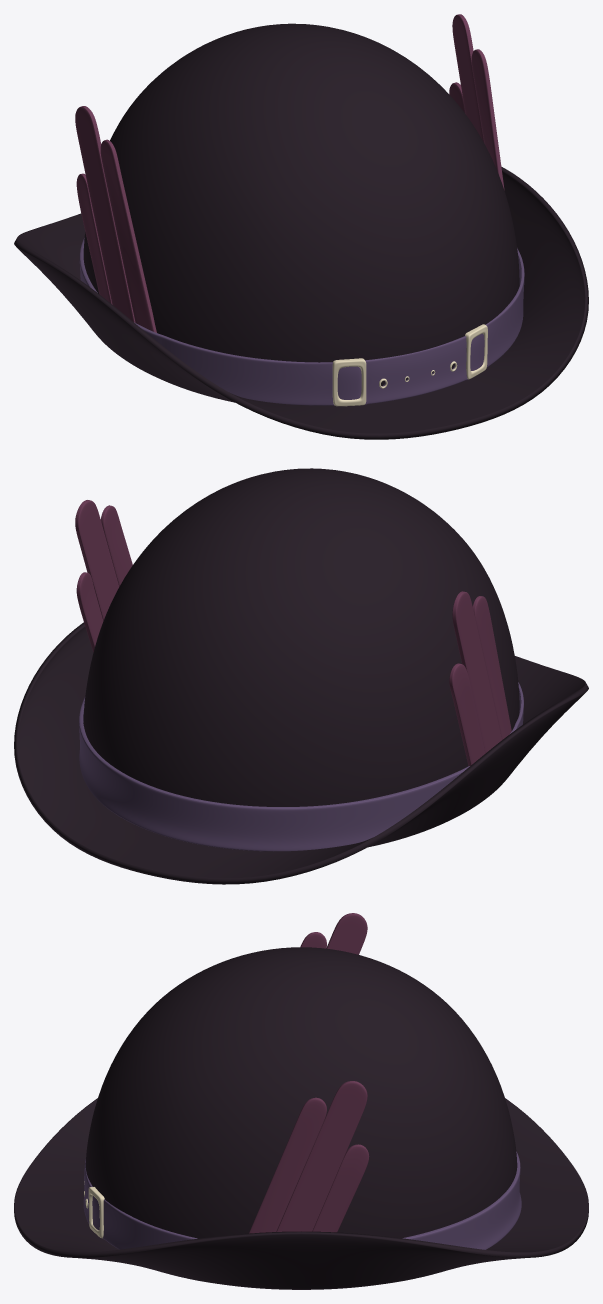
Rendered from hat6.glb.
The picture shows the model from 3 angles, top to bottom: view 1: azimuth 30°, elevation 25°; view 2: azimuth 150°, elevation 25°; view 3: azimuth 270°, elevation 25°; orthographic projection. The views are drawn at different scales.
Parts seen in each view (by area): view 1: Cube_Cube008, Cube001_Cube002, Cube002_Cube003; view 2: Cube_Cube008, Cube001_Cube002; view 3: Cube_Cube008, Cube001_Cube002, Cube002_Cube003.
Part boxes in pixels (x1,y1,x2,y2): Cube_Cube008: (14, 23, 588, 439); Cube001_Cube002: (75, 14, 524, 405); Cube002_Cube003: (332, 324, 487, 406); Cube_Cube008: (14, 468, 588, 884); Cube001_Cube002: (75, 500, 523, 851); Cube_Cube008: (14, 947, 588, 1289); Cube001_Cube002: (83, 913, 521, 1249); Cube002_Cube003: (88, 1187, 104, 1238).
Size of the model in its own units: 7.97 by 4.69 by 9.87.
